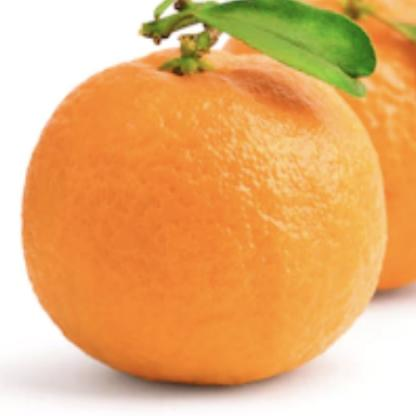fresh: (23, 38, 388, 389)
